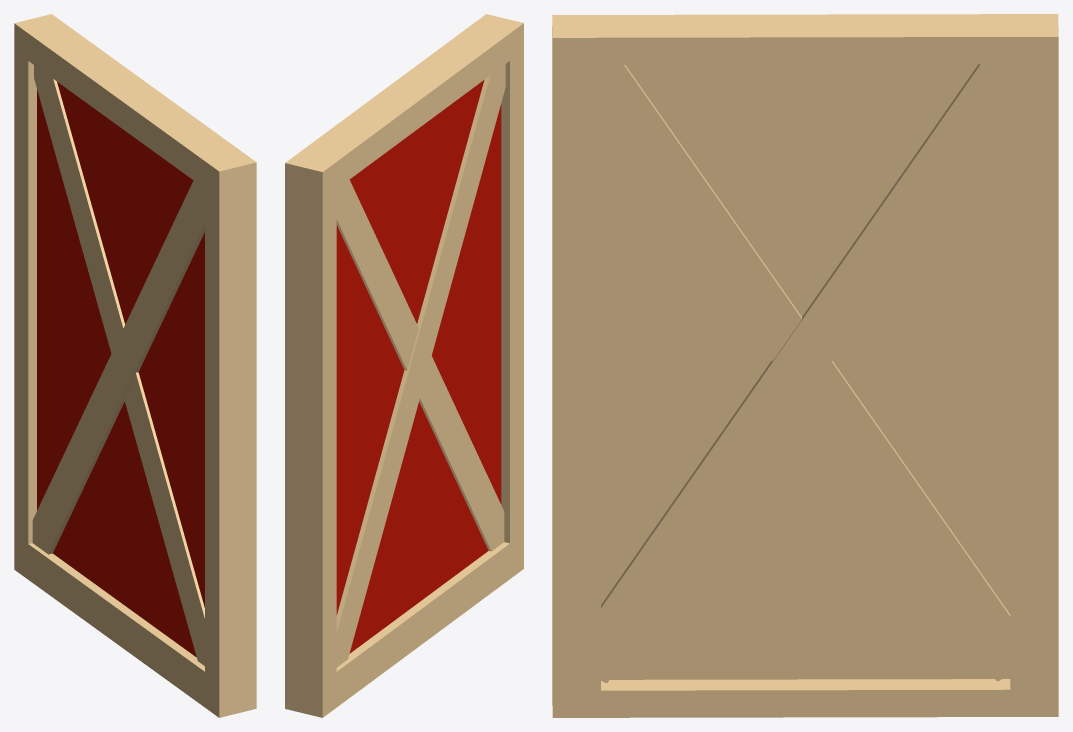
The model's file is PintuBarnKanan.glb.
The picture shows the model from 3 angles, left to right: view 1: azimuth 30°, elevation 25°; view 2: azimuth 150°, elevation 25°; view 3: azimuth 270°, elevation 25°; orthographic projection. The views are drawn at different scales.
Parts seen in each view (by area): view 1: Cube.012; view 2: Cube.012; view 3: Cube.012.
Part boxes in pixels (x1,y1,x2,y2): Cube.012: (14, 14, 256, 717); Cube.012: (285, 14, 523, 717); Cube.012: (552, 14, 1058, 717).
Size of the model in its own units: 0.1109 by 1.47 by 0.9916.
